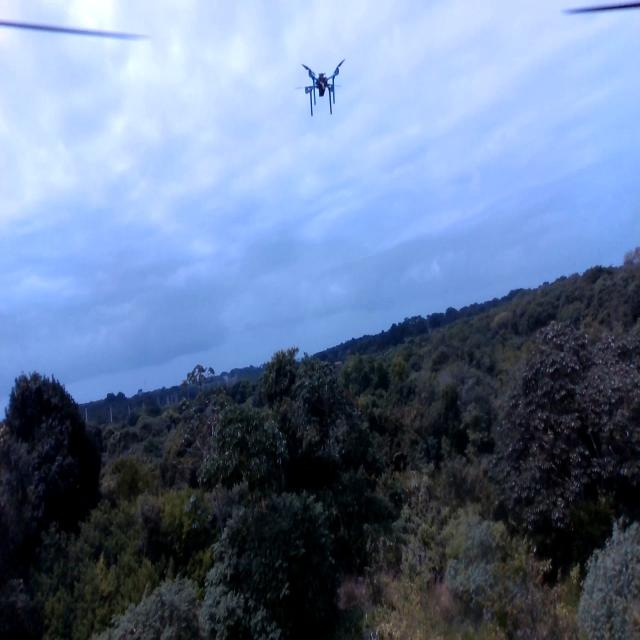-uav-: (291, 50, 351, 124)
